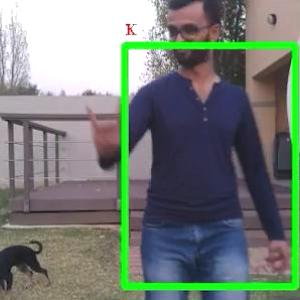takeoff-hand: (78, 97, 130, 162)
